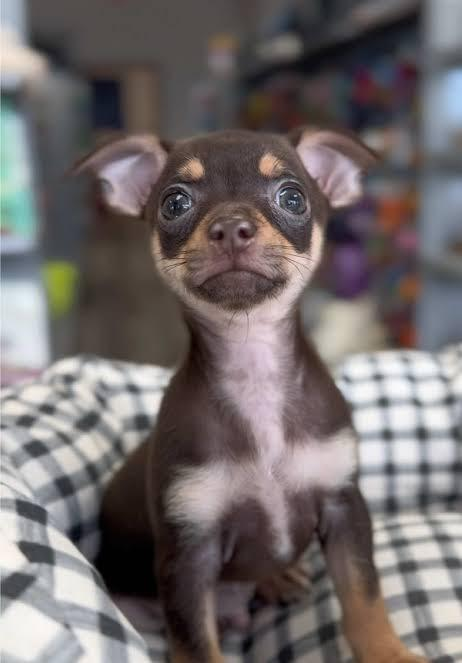puppy-dog: (62, 122, 432, 663)
